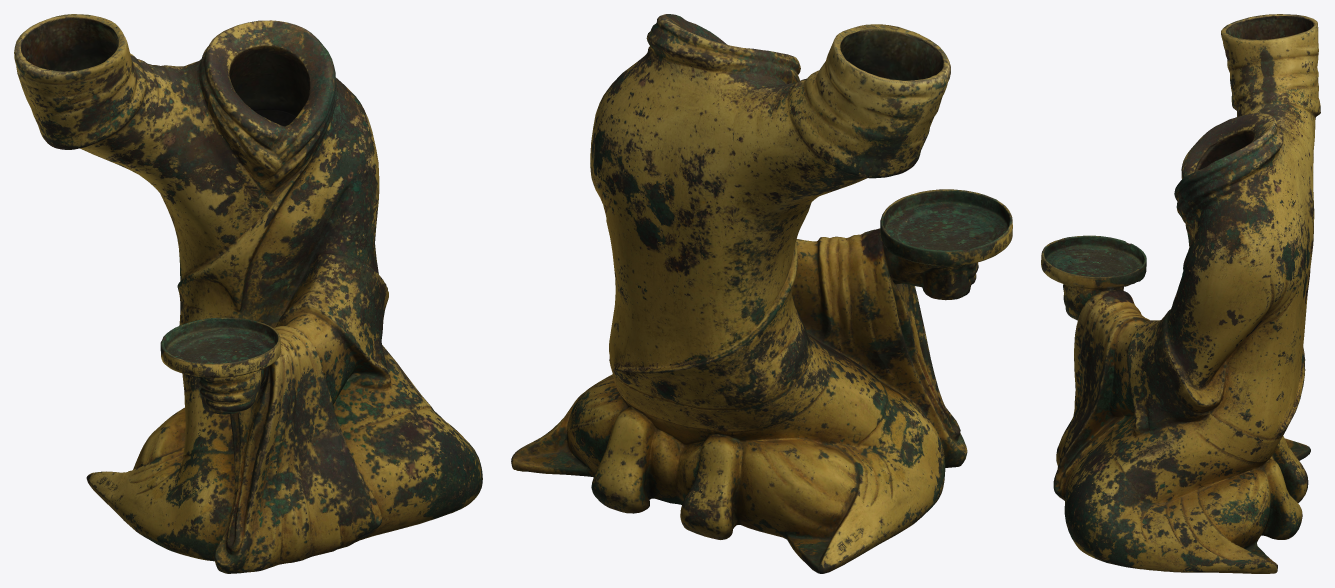
The model's file is shen.FBX.
The picture shows the model from 3 angles, left to right: view 1: azimuth 30°, elevation 25°; view 2: azimuth 150°, elevation 25°; view 3: azimuth 270°, elevation 25°; orthographic projection. The views are drawn at different scales.
Parts seen in each view (by area): view 1: Group58330; view 2: Group58330; view 3: Group58330.
Boxes of the visible parts, left/top/right/bottom form: Group58330: left=14, top=14, right=482, bottom=573; Group58330: left=511, top=14, right=1012, bottom=573; Group58330: left=1041, top=14, right=1320, bottom=573.
Size of the model in its own units: 1769 by 2057 by 1251.
Materials: 1 (1 with a texture image).
